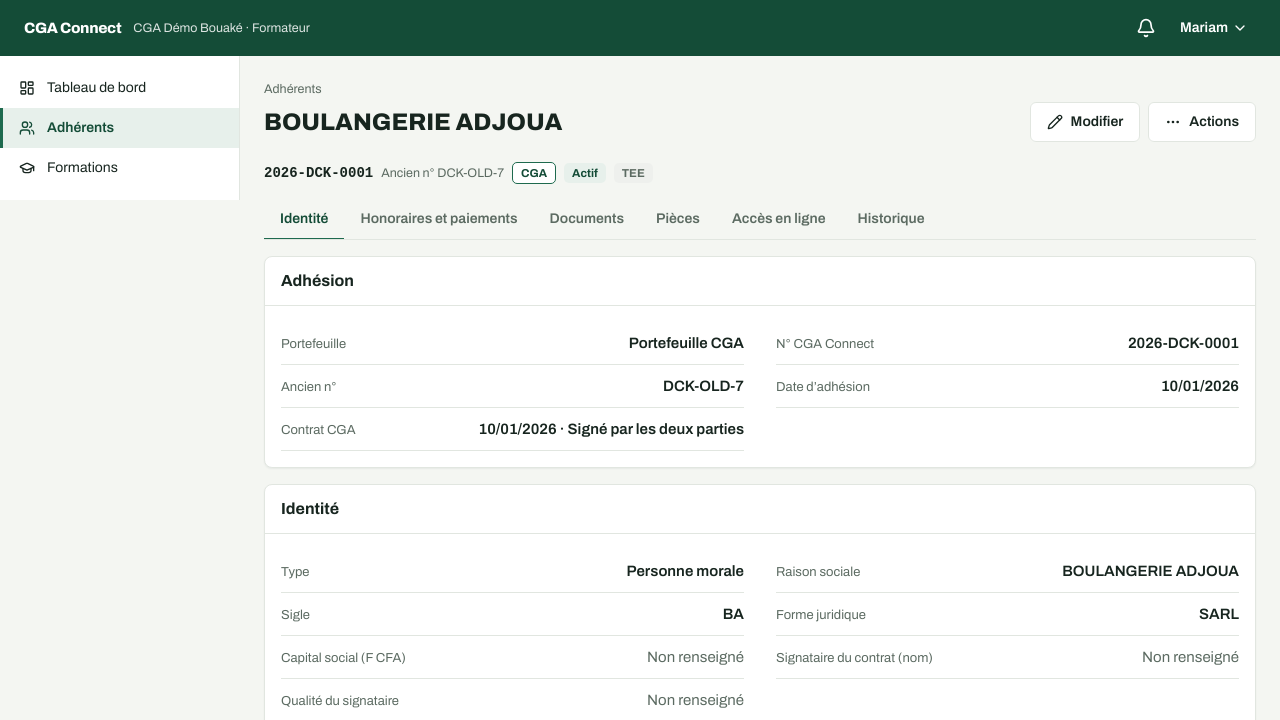
Scenario: /cga/adherents/:id · Honoraires et paiements (F-PAY-01 à 03) › sans le droit de gérer les paiements (formateur) : consultation seule
Expected: the heading "BOULANGERIE ADJOUA" is shown, [264,106,562,138]
Click the tab "Honoraires et paiements" at (439, 220), box [344,200,534,240]
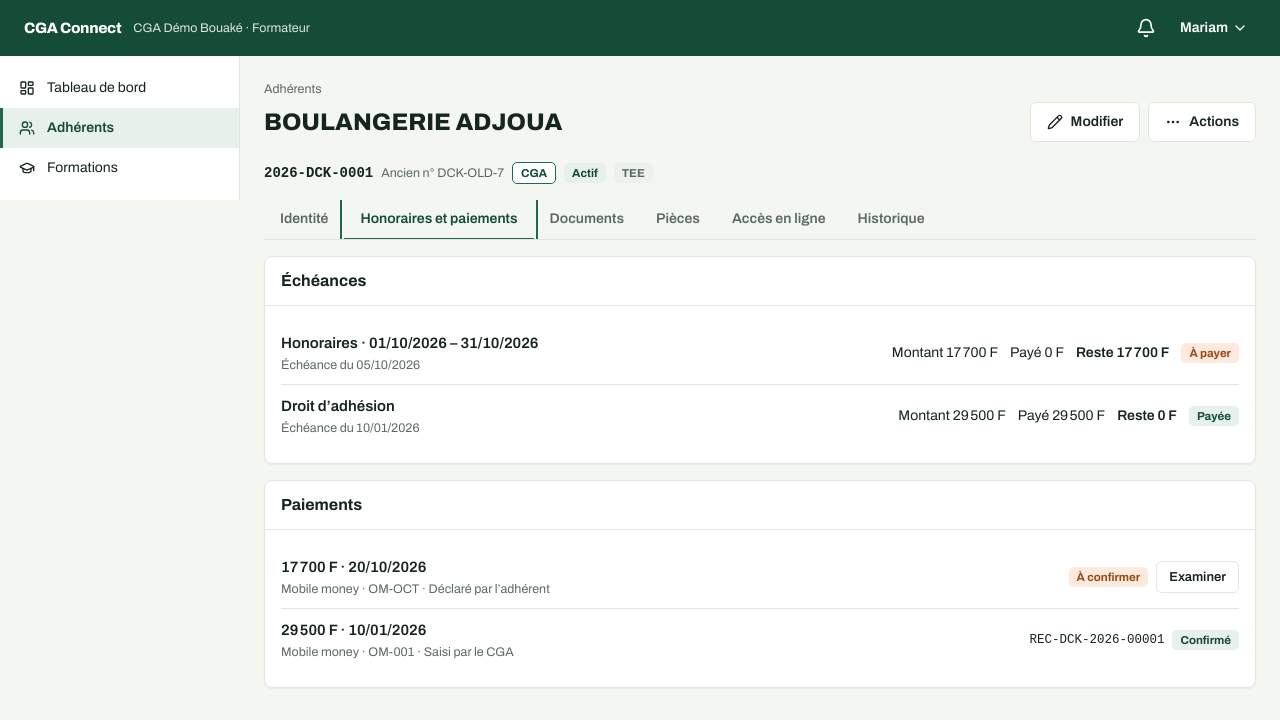
Expected: the list named "Échéances" is shown, [281,322,1239,447]
